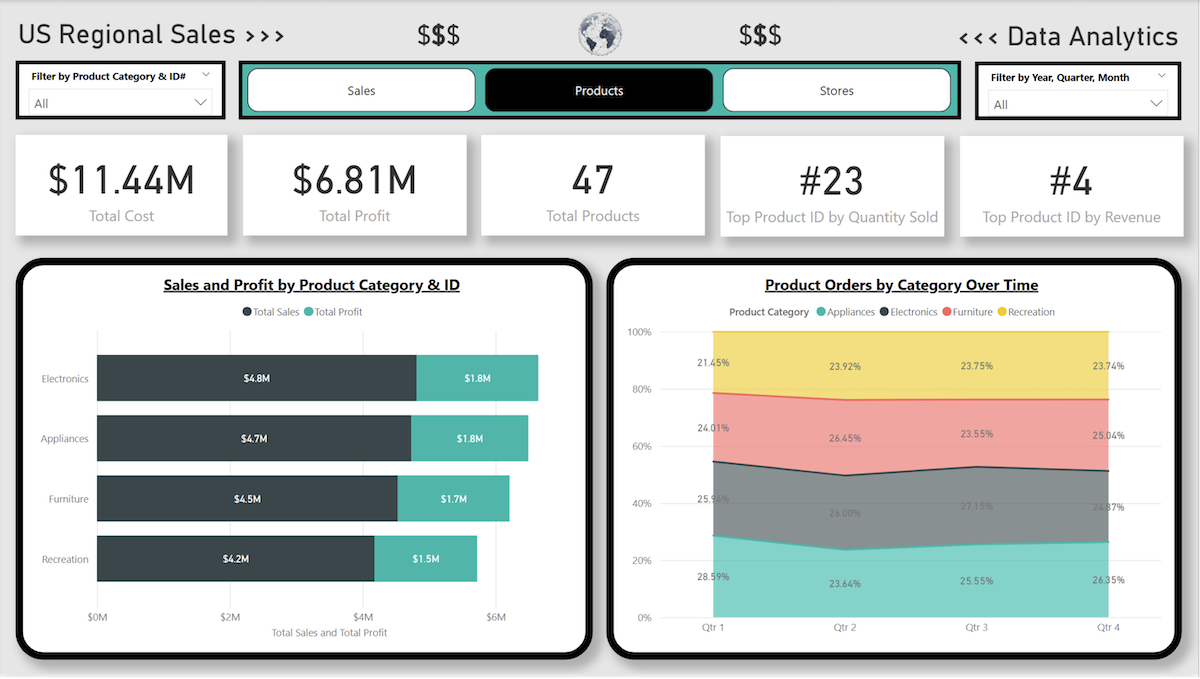

What the dashboard file says about the page in this screenshot:
{"tool":"powerbi","page":{"name":"Products","canvas":[1280,720],"ordinal":1},"visuals":[{"type":"card","fields":{"Values":["Sum(fact_sales.UnitCost)"]},"box":[16,143.4,226.5,107.7],"z":0,"group":"g2"},{"type":"group","id":"g1","title":"Group 4","box":[16,64,1248,640],"z":1000},{"type":"group","id":"g2","title":"Group 2","box":[16,143.4,1248,108.8],"z":1000,"group":"g1"},{"type":"card","fields":{"Values":["fact_sales.Profit"]},"box":[258.7,143.4,239.2,107.7],"z":1000,"group":"g2"},{"type":"group","id":"g3","title":"Group 5","box":[14,0,1250,72.6],"z":2000},{"type":"textbox","box":[14,14,322.6,50.7],"z":2000,"group":"g3"},{"type":"shape","box":[254,64.4,771.9,62.9],"z":2000,"group":"g5"},{"type":"card","fields":{"Values":["fact_sales.Top Product by Revenue"]},"box":[1024.8,144.5,239.2,107.7],"z":2000,"group":"g2"},{"type":"barChart","title":"Sales and Profit by Product Category & ID","fields":{"Category":["dim_product.ProductCategory","dim_product.productID"],"Y":["fact_sales.Total Sales","fact_sales.Total Profit"]},"box":[16.4,274.7,617.1,429.3],"z":2000,"group":"g1"},{"type":"pageNavigator","box":[263.2,72.3,753.4,47.2],"z":2500,"group":"g5"},{"type":"textbox","box":[1008,16,256,48],"z":3000,"group":"g3"},{"type":"card","fields":{"Values":["CountNonNull(dim_product.productID)"]},"box":[514,143.4,239.2,107.7],"z":3000,"group":"g2"},{"type":"hundredPercentStackedAreaChart","title":"Product Orders by Category Over Time","fields":{"Category":["dim_date.Date.Variation.Date Hierarchy.Year","dim_date.Date.Variation.Date Hierarchy.Quarter","dim_date.Date.Variation.Date Hierarchy.Month"],"Y":["Sum(fact_sales.OrderQuantity)"],"Series":["dim_product.ProductCategory"]},"box":[647.4,274.7,615.1,429.3],"z":3000,"group":"g1"},{"type":"image","box":[600.2,0,81.8,72.6],"z":3500,"group":"g3"},{"type":"textbox","box":[254.6,15,770.8,50.7],"z":4000,"group":"g3"},{"type":"slicer","fields":{"Values":["dim_product.ProductCategory","dim_product.productID"]},"box":[16.6,64,224.6,62.8],"z":4000,"group":"g1"},{"type":"card","fields":{"Values":["fact_sales.Top Product by Quantity"]},"box":[769.4,144.5,239.2,107.7],"z":4000,"group":"g2"},{"type":"slicer","fields":{"Values":["regional_sales_db dim_date.Year","regional_sales_db dim_date.Quarter","dim_date.Date.Variation.Date Hierarchy.Month"]},"box":[1041.9,64.6,220.6,62.4],"z":5000,"group":"g1"},{"type":"group","id":"g4","title":"Group 1","box":[254,64.4,771.9,62.9],"z":6000,"group":"g1"},{"type":"group","id":"g5","title":"Group 3","box":[254,64.4,771.9,62.9],"z":7001,"group":"g4"}]}

Visuals, with their boxes in screenshot pixels (x1, y1, x2, y2), scaled from the page's 1280x720 canvas onto the 1200x679 screenshot:
card - Sum(fact_sales.UnitCost): pyautogui.locateOnScreen(15, 135, 227, 237)
"Group 4" group: pyautogui.locateOnScreen(15, 60, 1185, 664)
"Group 2" group: pyautogui.locateOnScreen(15, 135, 1185, 238)
card - fact_sales.Profit: pyautogui.locateOnScreen(243, 135, 467, 237)
"Group 5" group: pyautogui.locateOnScreen(13, 0, 1185, 68)
textbox: pyautogui.locateOnScreen(13, 13, 316, 61)
shape: pyautogui.locateOnScreen(238, 61, 962, 120)
card - fact_sales.Top Product by Revenue: pyautogui.locateOnScreen(961, 136, 1185, 238)
"Sales and Profit by Product Category & ID" barChart: pyautogui.locateOnScreen(15, 259, 594, 664)
pageNavigator: pyautogui.locateOnScreen(247, 68, 953, 113)
textbox: pyautogui.locateOnScreen(945, 15, 1185, 60)
card - CountNonNull(dim_product.productID): pyautogui.locateOnScreen(482, 135, 706, 237)
"Product Orders by Category Over Time" hundredPercentStackedAreaChart: pyautogui.locateOnScreen(607, 259, 1184, 664)
image: pyautogui.locateOnScreen(563, 0, 639, 68)
textbox: pyautogui.locateOnScreen(239, 14, 961, 62)
slicer - dim_product.ProductCategory x dim_product.productID: pyautogui.locateOnScreen(16, 60, 226, 120)
card - fact_sales.Top Product by Quantity: pyautogui.locateOnScreen(721, 136, 946, 238)
slicer - regional_sales_db dim_date.Year x regional_sales_db dim_date.Quarter: pyautogui.locateOnScreen(977, 61, 1184, 120)
"Group 1" group: pyautogui.locateOnScreen(238, 61, 962, 120)
"Group 3" group: pyautogui.locateOnScreen(238, 61, 962, 120)
